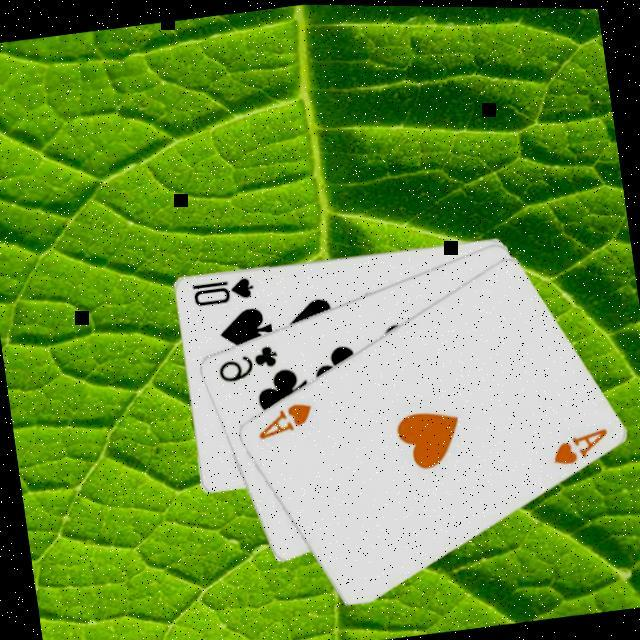10S: (185, 272, 256, 310)
9C: (209, 340, 282, 390)
AH: (544, 421, 612, 470), (248, 397, 316, 445)
